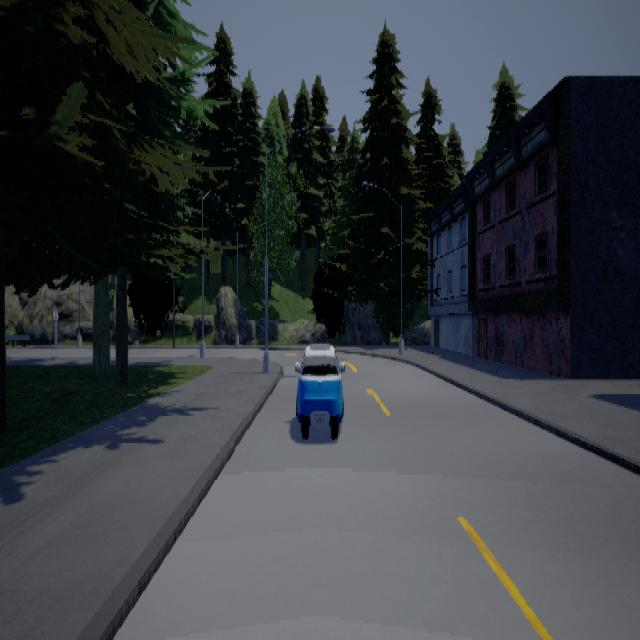vehicle: (296, 338, 346, 438)
